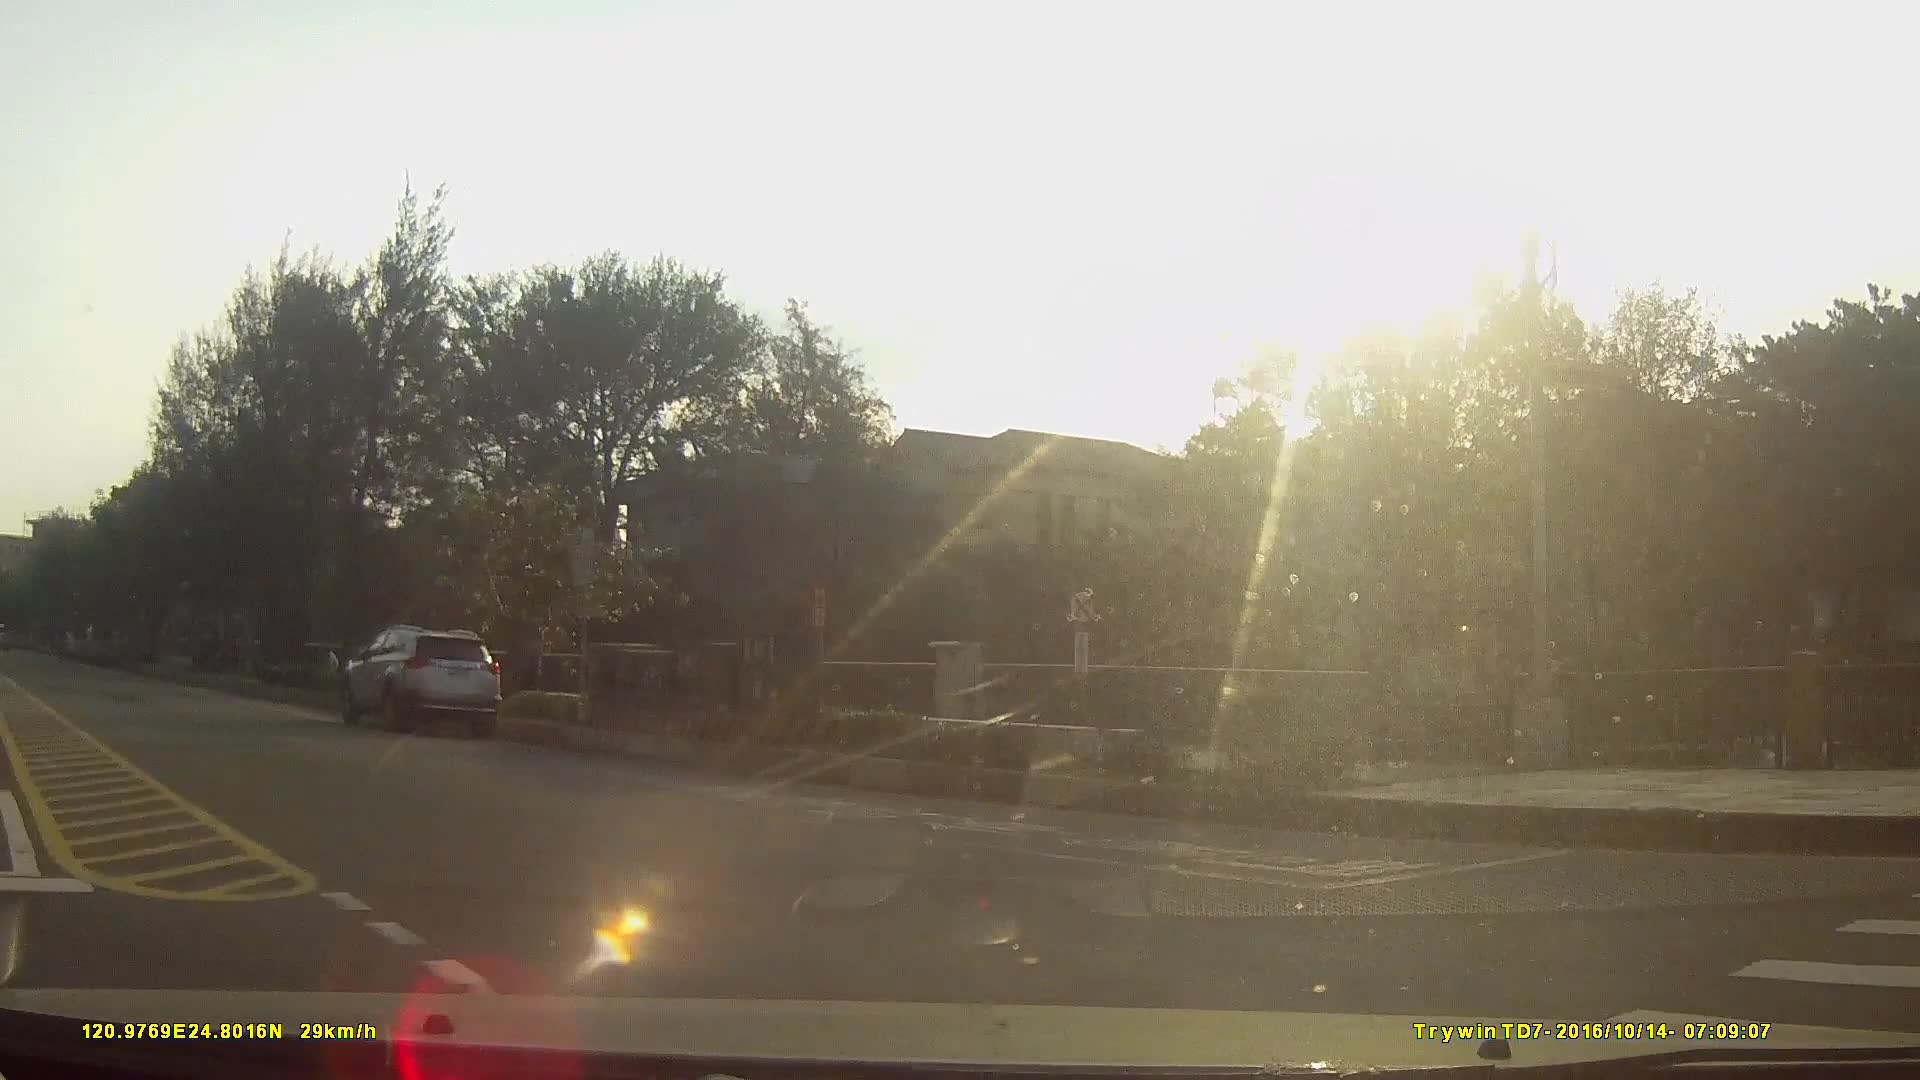vehicle: (338, 621, 498, 735)
